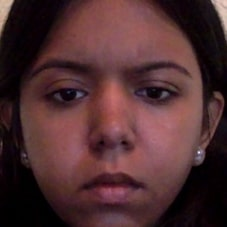awake: (29, 51, 197, 211)
